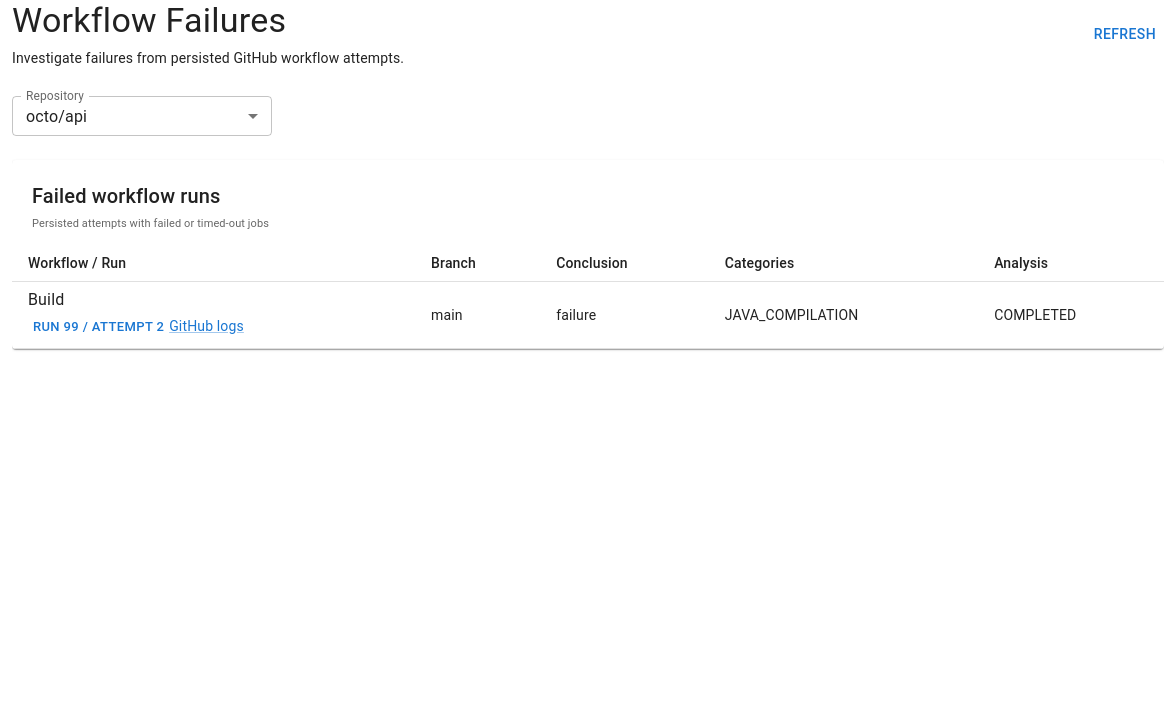
it: persisted workflow failures › renders model hypotheses and resolved log text as text, never HTML
The width and height of the screenshot is (1176, 720).
Click the button "Run 99 / attempt 2" at (99, 327), box [28,312,169,342]
(page scrolled)
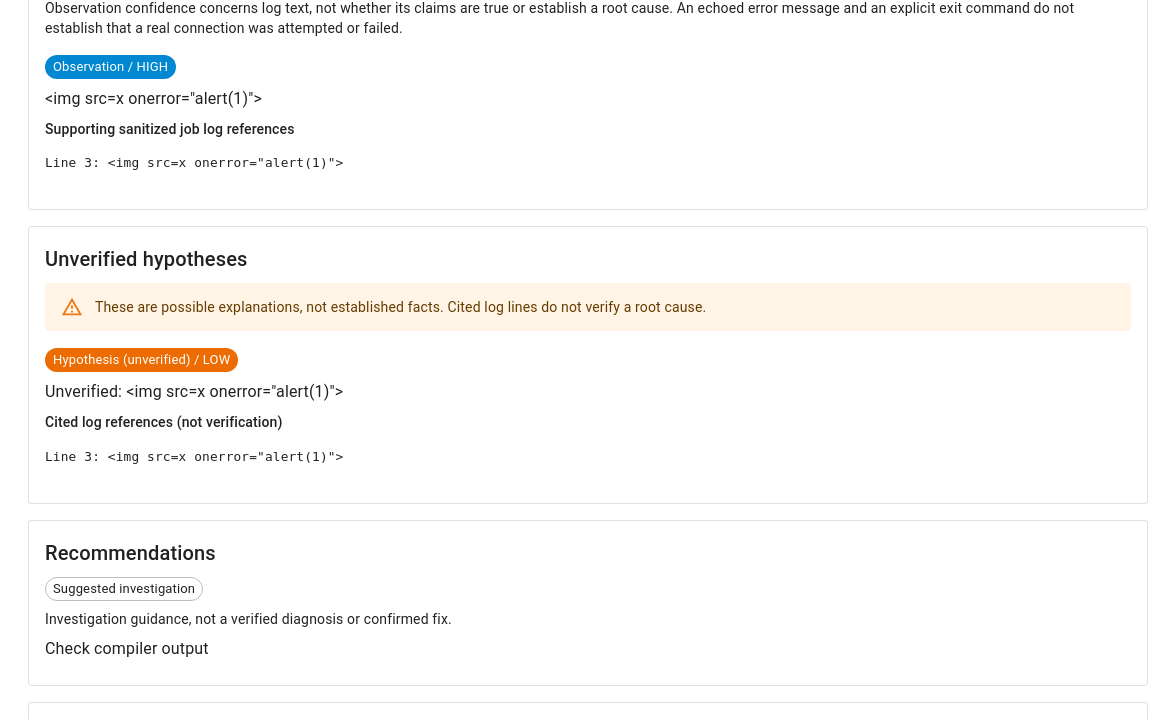
Result: the text "<img src=x onerror=\"alert(1)\">" is shown at [45,89,262,108]
Result: the text "Hypothesis (unverified) / LOW" is shown at [45,350,238,370]
